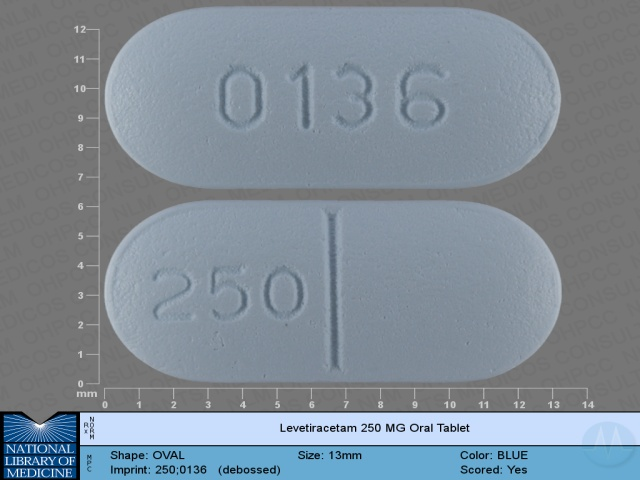0: (216, 62, 268, 131), (260, 262, 308, 325)
1: (284, 61, 318, 136)
2: (149, 265, 197, 326)
3: (325, 61, 379, 133)
5: (207, 262, 251, 324)
6: (396, 61, 450, 134)
|: (315, 206, 353, 381)
